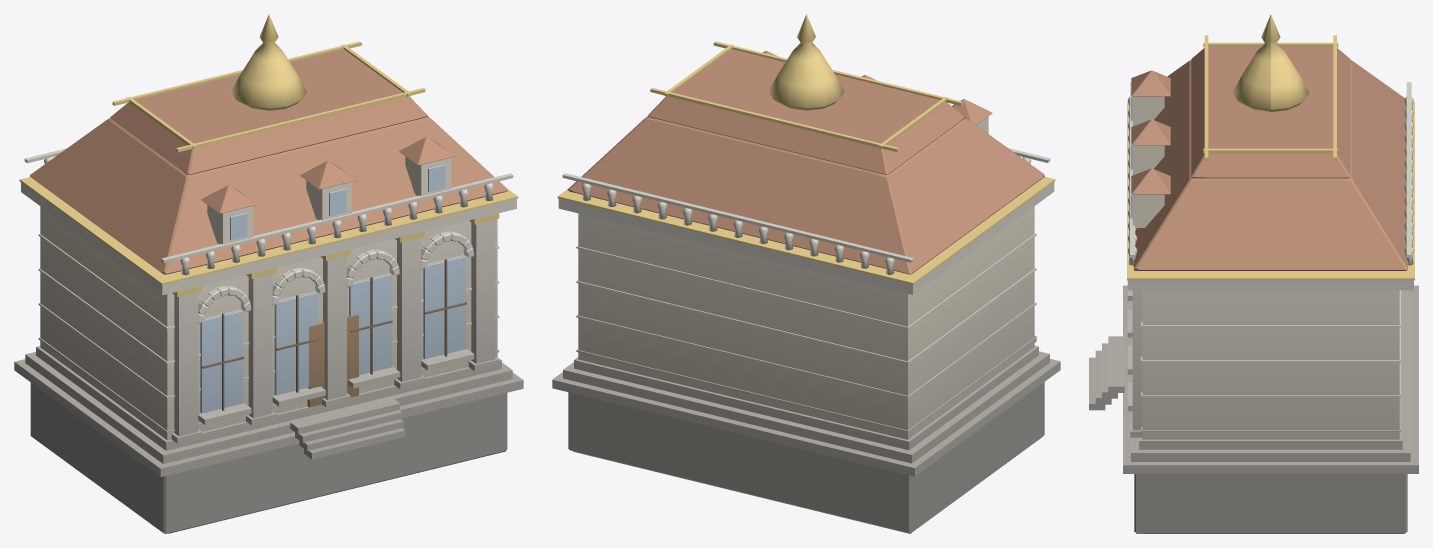
File: pavillon_barock.glb
3 renders of one model, left to right at view 1: azimuth 30°, elevation 25°; view 2: azimuth 150°, elevation 25°; view 3: azimuth 270°, elevation 25°, orthographic.
Parts seen in each view (by area): view 1: G_pavillon_barock; view 2: G_pavillon_barock; view 3: G_pavillon_barock.
Part boxes in pixels (x1,y1,x2,y2): G_pavillon_barock: [14, 14, 523, 533]; G_pavillon_barock: [552, 14, 1060, 533]; G_pavillon_barock: [1089, 14, 1418, 533].
Bounding box in the file's own units: 13.2 × 14.95 × 10.25.
